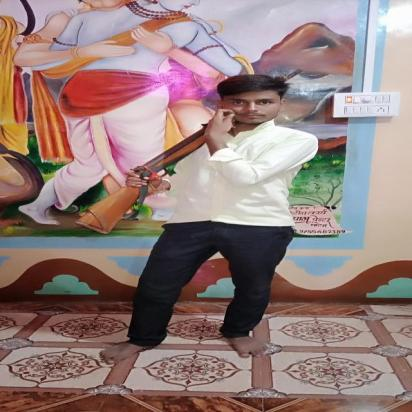Gun: (72, 62, 318, 236)
